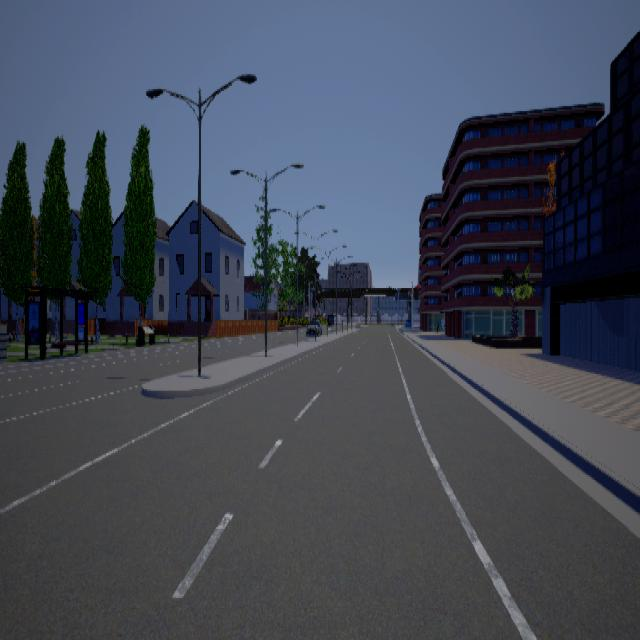vehicle: (304, 317, 321, 335)
